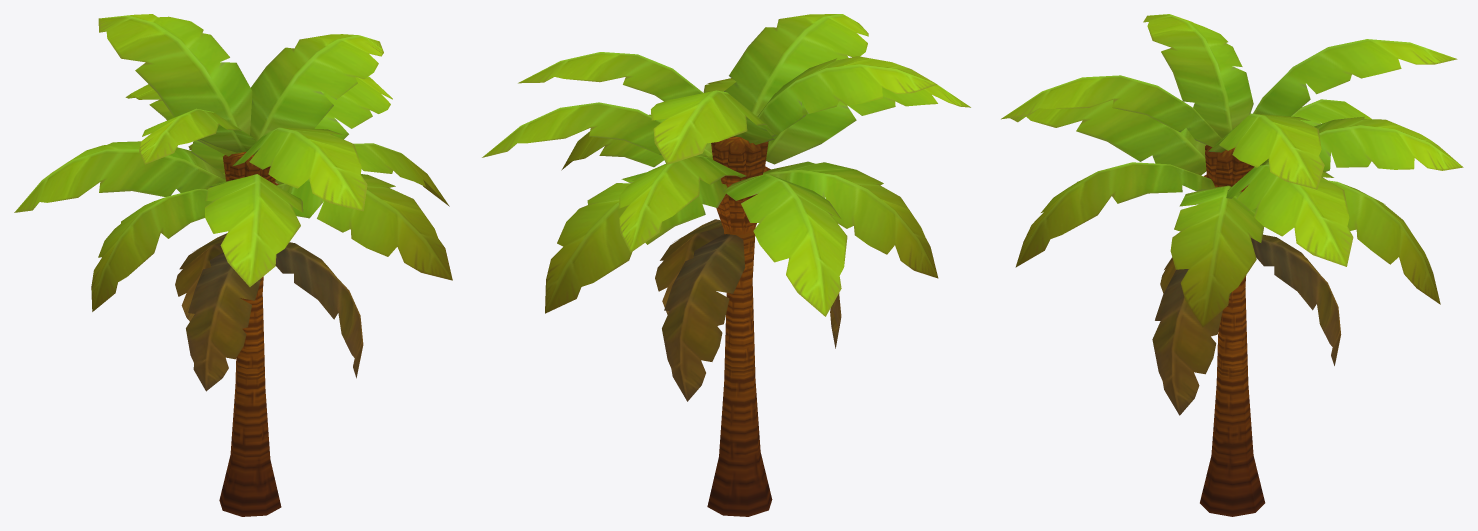
The model's file is coconut_palm.glb.
The picture shows the model from 3 angles, left to right: view 1: azimuth 30°, elevation 25°; view 2: azimuth 150°, elevation 25°; view 3: azimuth 270°, elevation 25°; orthographic projection. The views are drawn at different scales.
Visible parts, largest first — view 1: body; view 2: body; view 3: body.
Boxes of the visible parts, x1,y1,x2,y2 form: body: (14, 14, 452, 516); body: (482, 14, 970, 516); body: (1001, 14, 1463, 516).
Size of the model in its own units: 3.65 by 4.2 by 3.93.
1 material, 1 textured.
